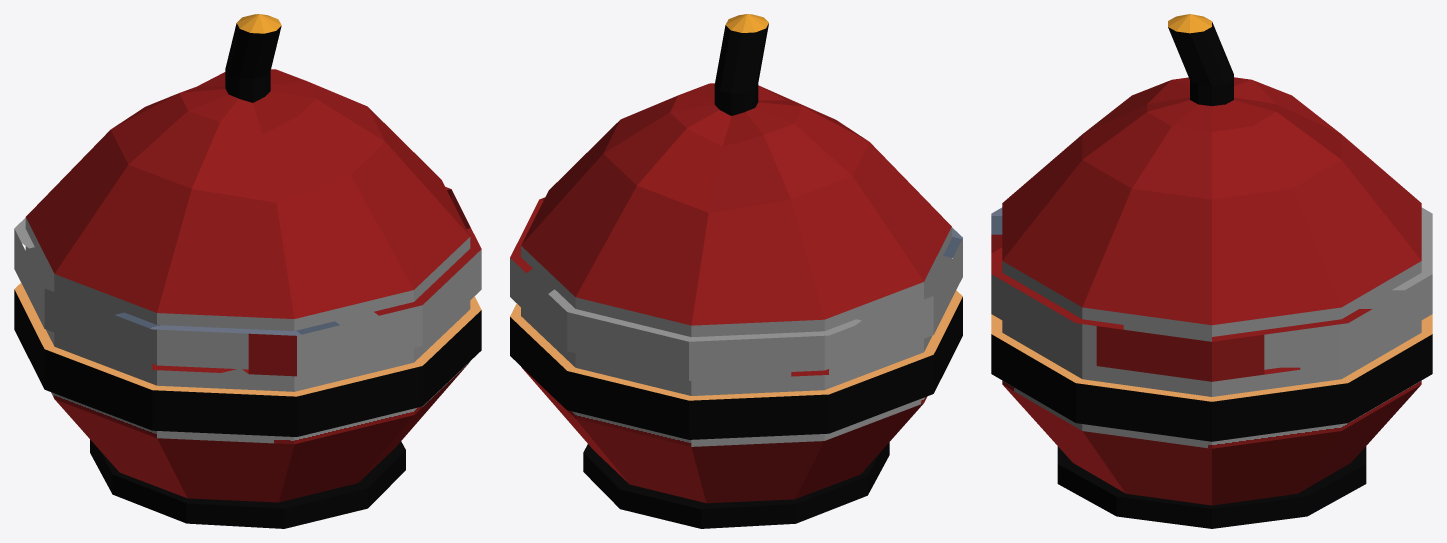
File: bomb 2.fbx
The picture shows the model from 3 angles, left to right: view 1: azimuth 30°, elevation 25°; view 2: azimuth 150°, elevation 25°; view 3: azimuth 270°, elevation 25°; orthographic projection. The views are drawn at different scales.
Parts seen in each view (by area): view 1: sphere, cylinder_1, cylinder_2, cylinder_3, cylinder; view 2: sphere, cylinder_1, cylinder_2, cylinder_3, cylinder; view 3: sphere, cylinder_1, cylinder_2, cylinder_3, cylinder.
Boxes of the visible parts, x1,y1,x2,y2 form: sphere: [25, 69, 470, 502]; cylinder_1: [14, 283, 481, 436]; cylinder_2: [14, 187, 481, 376]; cylinder_3: [90, 439, 405, 528]; cylinder: [225, 14, 281, 102]; sphere: [521, 83, 951, 503]; cylinder_1: [510, 290, 962, 439]; cylinder_2: [510, 197, 962, 380]; cylinder_3: [583, 442, 889, 528]; cylinder: [714, 14, 768, 115]; sphere: [1002, 77, 1421, 505]; cylinder_1: [991, 314, 1432, 441]; cylinder_2: [991, 207, 1432, 381]; cylinder_3: [1057, 446, 1366, 528]; cylinder: [1168, 14, 1233, 105].
Bounding box in the file's own units: 65.72 × 70.31 × 62.5.
Materials: 5 (5 with a texture image).
